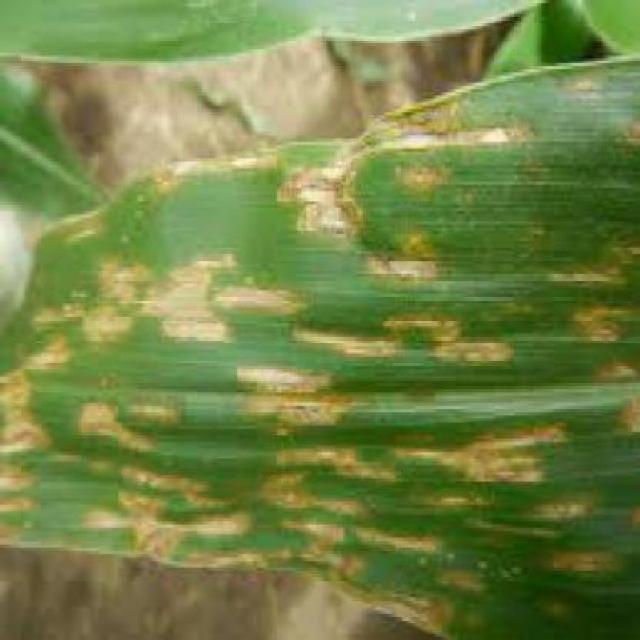Corn_Grey_Leaf_Spot: (11, 52, 640, 640)
